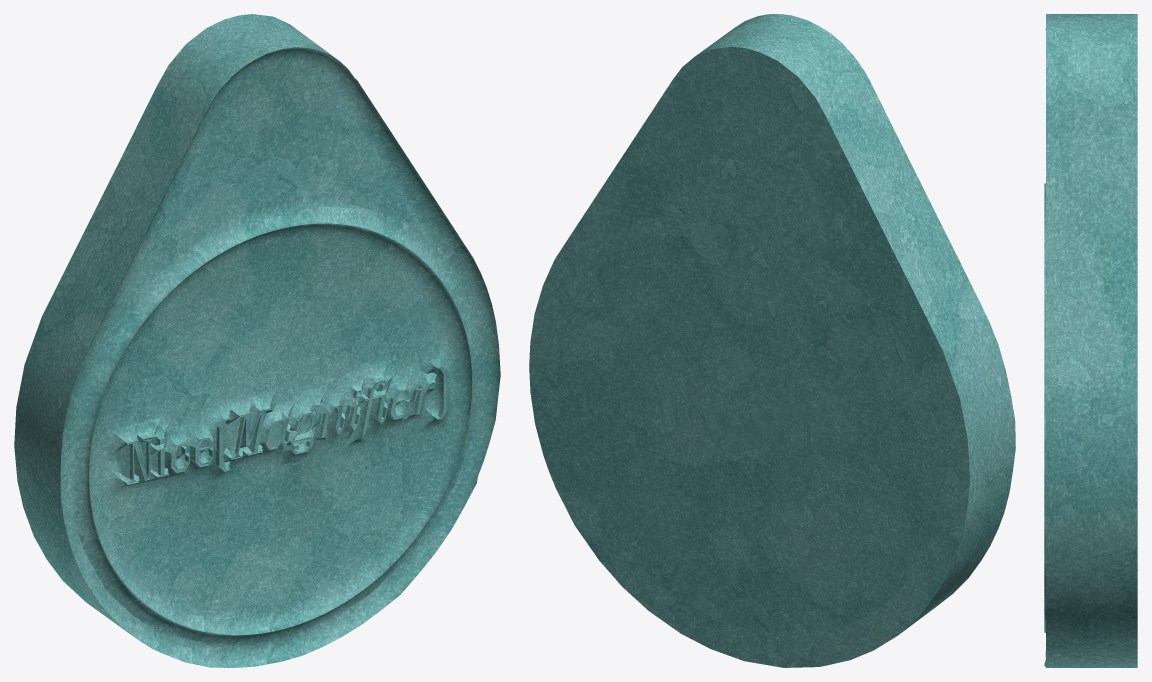
The model's file is magnifier_2.gltf.
3 renders of one model, left to right at view 1: azimuth 30°, elevation 25°; view 2: azimuth 150°, elevation 25°; view 3: azimuth 270°, elevation 25°, orthographic.
Visible parts, largest first — view 1: Mesh_0.007; view 2: Mesh_0.007; view 3: Mesh_0.007.
Part boxes in pixels (box(x1,y1,x2,y2)): Mesh_0.007: box(14, 14, 500, 667); Mesh_0.007: box(529, 14, 1015, 667); Mesh_0.007: box(1044, 14, 1137, 667).
Bounding box in the file's own units: 0.1173 × 0.1559 × 0.0212.
1 material, 1 textured.
